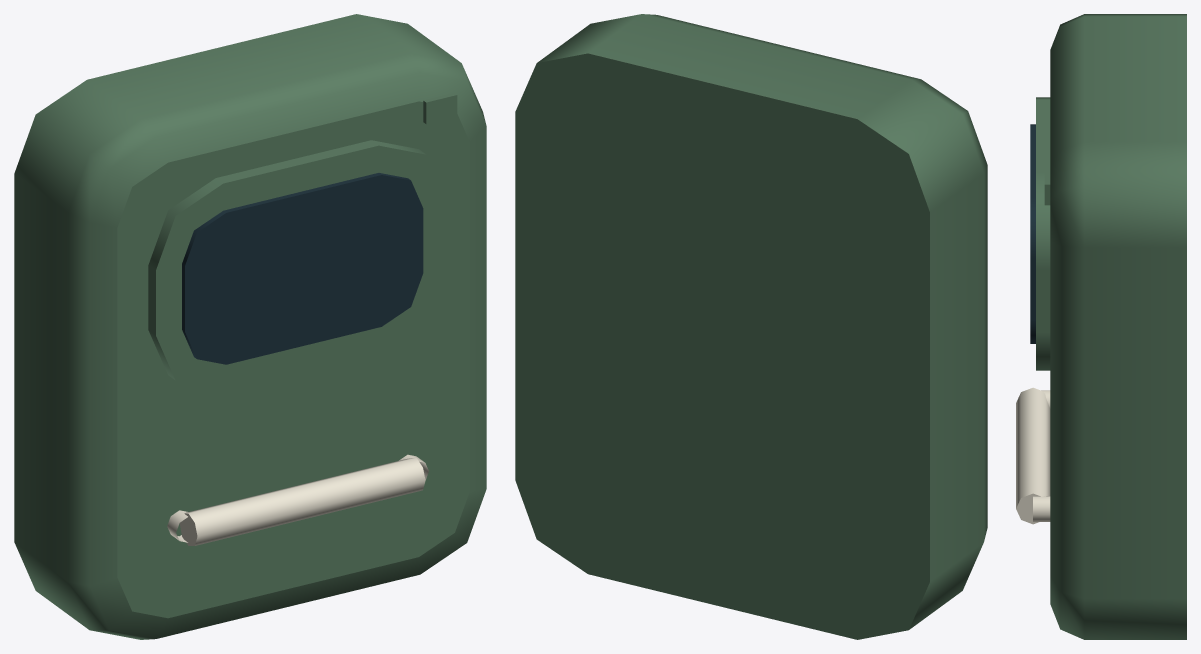
Rendered from t10_scrubber.obj.
3 views of the same model, side by side, from view 1: azimuth 30°, elevation 25°; view 2: azimuth 150°, elevation 25°; view 3: azimuth 270°, elevation 25° (orthographic). The views are drawn at different scales.
Parts seen in each view (by area): view 1: t10_scrubber; view 2: t10_scrubber; view 3: t10_scrubber.
Part boxes in pixels (x1,y1,x2,y2): t10_scrubber: (14,14,486,639); t10_scrubber: (515,14,987,639); t10_scrubber: (1016,14,1186,639).
Size of the model in its own units: 0.8 by 0.96 by 0.3.
